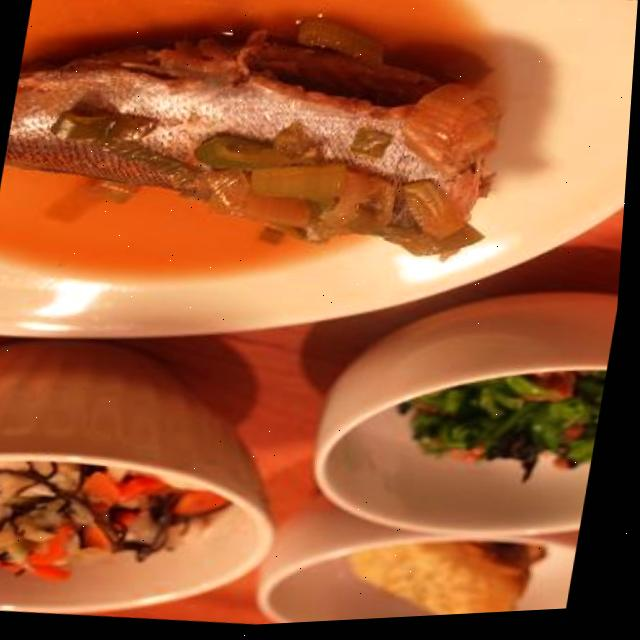熟制海鲜: (389, 130, 632, 565)
